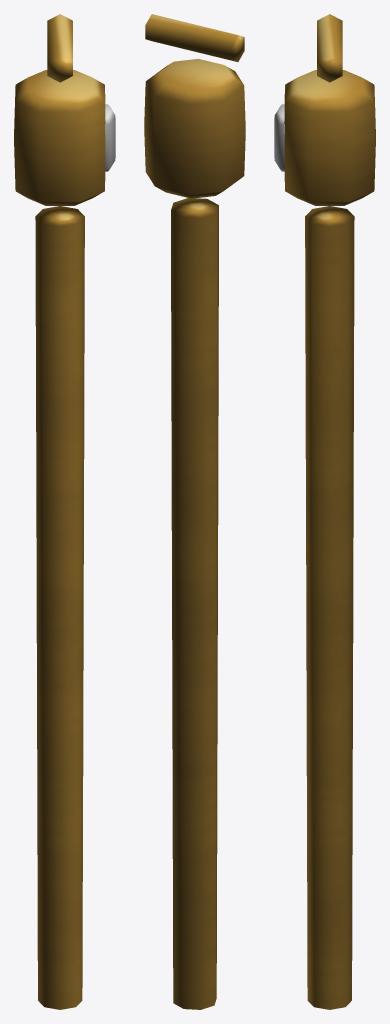
Rendered from sceptre.glb.
The picture shows the model from 3 angles, left to right: view 1: azimuth 90°, elevation 25°; view 2: azimuth 150°, elevation 25°; view 3: azimuth 270°, elevation 25°; orthographic projection.
Parts seen in each view (by area): view 1: sceptre; view 2: sceptre; view 3: sceptre.
Boxes of the visible parts, x1,y1,x2,y2 form: sceptre: (14, 14, 115, 1009); sceptre: (144, 14, 245, 1009); sceptre: (274, 14, 375, 1009).
Bounding box in the file's own units: 0.08 × 0.862 × 0.0822.
Materials: 1 (1 with a texture image).
